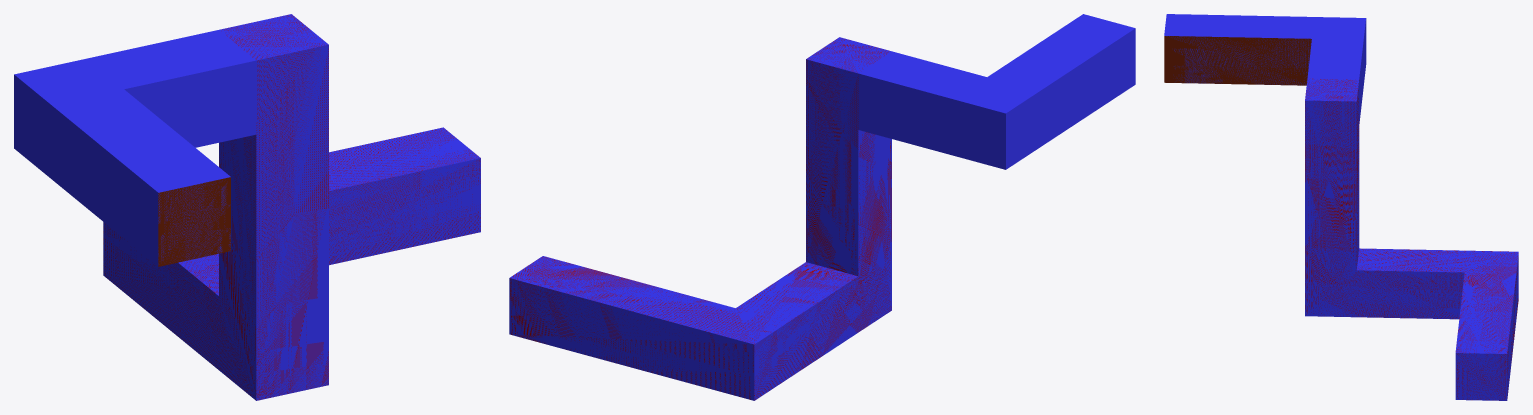
The model's file is Twistycooler_robot.dae.
3 renders of one model, left to right at view 1: azimuth 30°, elevation 25°; view 2: azimuth 150°, elevation 25°; view 3: azimuth 270°, elevation 25°, orthographic. The views are drawn at different scales.
Visible parts, largest first — view 1: skp8263, group_0 (×2); view 2: skp8263, group_0; view 3: skp8263, group_0 (×2).
Boxes of the visible parts, bbox=[...] form: skp8263: bbox=[103, 14, 480, 400]; group_0 (×2): bbox=[14, 30, 256, 266]; skp8263: bbox=[509, 37, 891, 400]; group_0: bbox=[858, 14, 1135, 169]; skp8263: bbox=[1305, 78, 1518, 400]; group_0 (×2): bbox=[1164, 14, 1366, 123].
Size of the model in its own units: 91.92 by 80.45 by 54.
